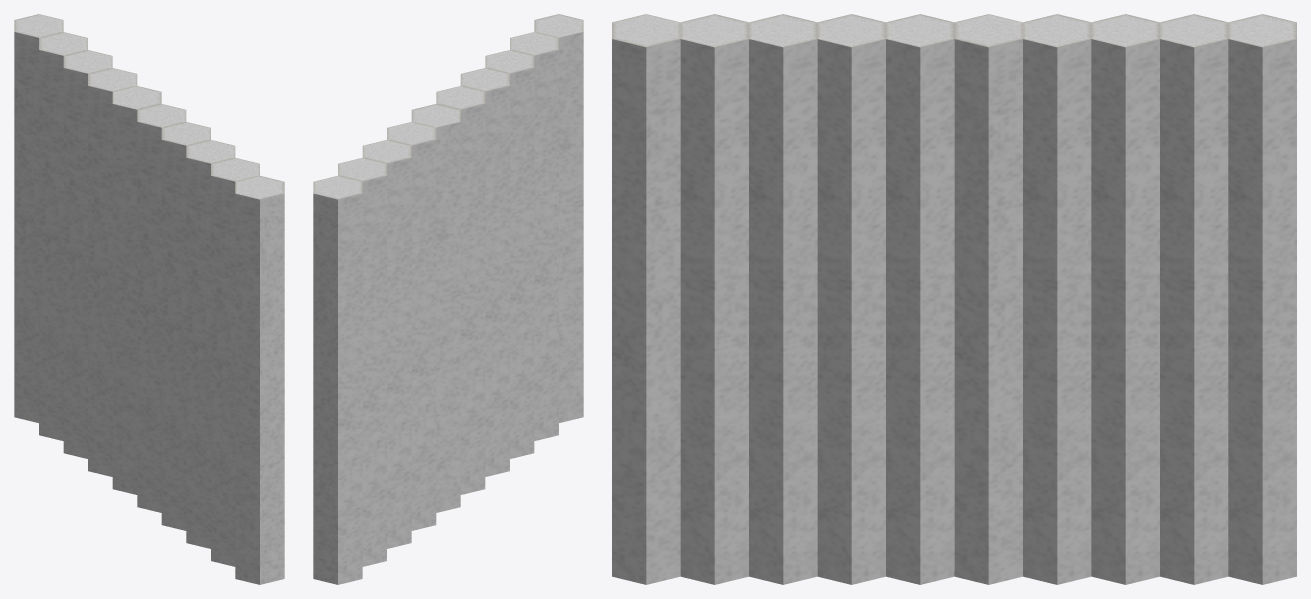
File: HexaTile_MurLimite10.FBX
3 renders of one model, left to right at view 1: azimuth 30°, elevation 25°; view 2: azimuth 150°, elevation 25°; view 3: azimuth 270°, elevation 25°, orthographic. The views are drawn at different scales.
Parts seen in each view (by area): view 1: HexaTile_LimiteZone10; view 2: HexaTile_LimiteZone10; view 3: HexaTile_LimiteZone10.
Part boxes in pixels (x1,y1,x2,y2): HexaTile_LimiteZone10: [14, 14, 284, 584]; HexaTile_LimiteZone10: [313, 14, 583, 584]; HexaTile_LimiteZone10: [612, 14, 1296, 584].
Bounding box in the file's own units: 1 × 7.5 × 8.66.
